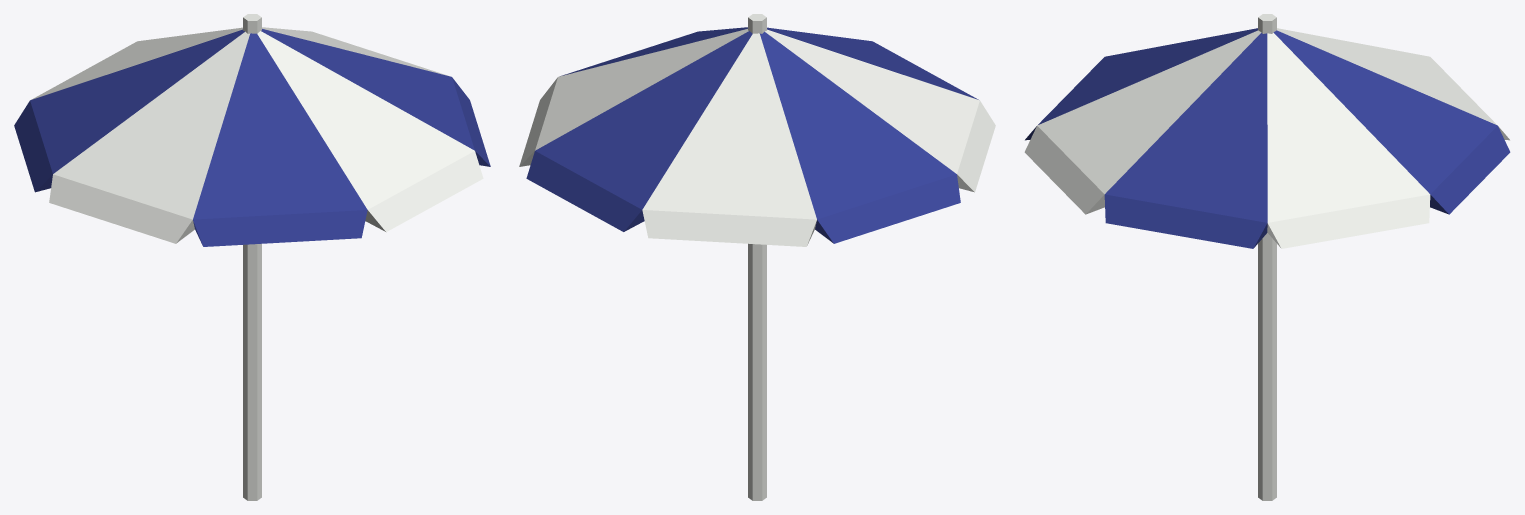
The model's file is umbrellaB.FBX.
3 views of the same model, side by side, from view 1: azimuth 30°, elevation 25°; view 2: azimuth 150°, elevation 25°; view 3: azimuth 270°, elevation 25° (orthographic).
Parts seen in each view (by area): view 1: umbrellaB; view 2: umbrellaB; view 3: umbrellaB.
Part boxes in pixels (bbox=[...]): umbrellaB: bbox=[14, 14, 490, 500]; umbrellaB: bbox=[519, 14, 995, 500]; umbrellaB: bbox=[1024, 14, 1510, 500].
Bounding box in the file's own units: 0.3805 × 0.4147 × 0.3805.
